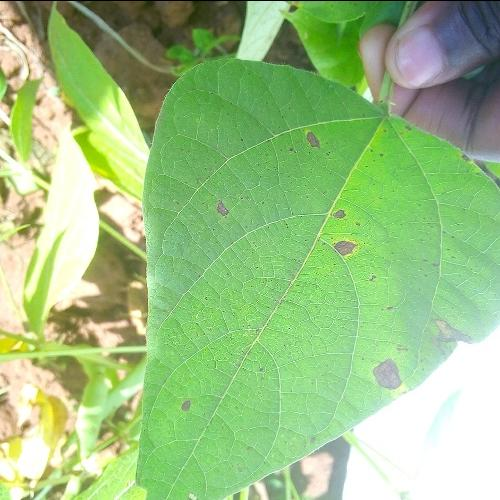hawar: (314, 178, 393, 274), (368, 336, 430, 406), (300, 85, 354, 160), (210, 150, 258, 226)
